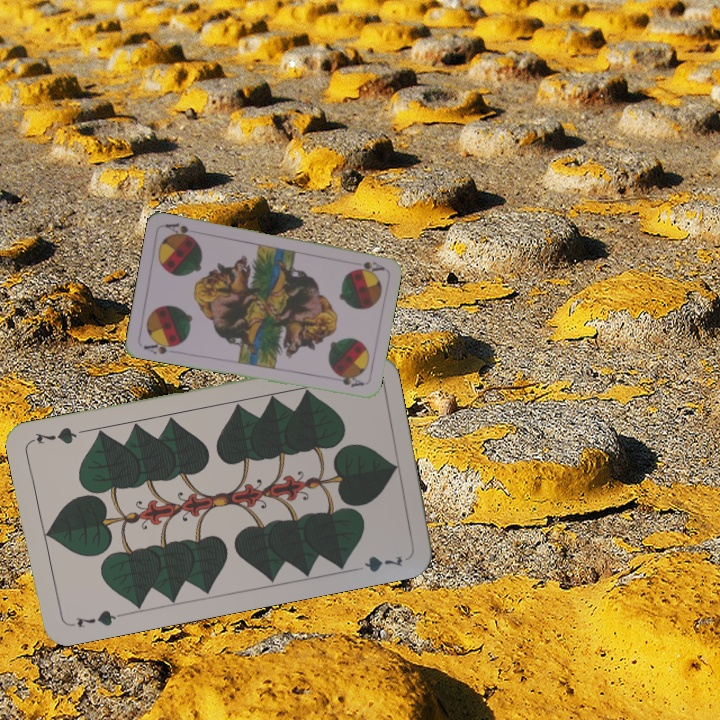G7: (65, 606, 124, 630)
SA: (140, 336, 181, 357), (359, 257, 386, 274)
